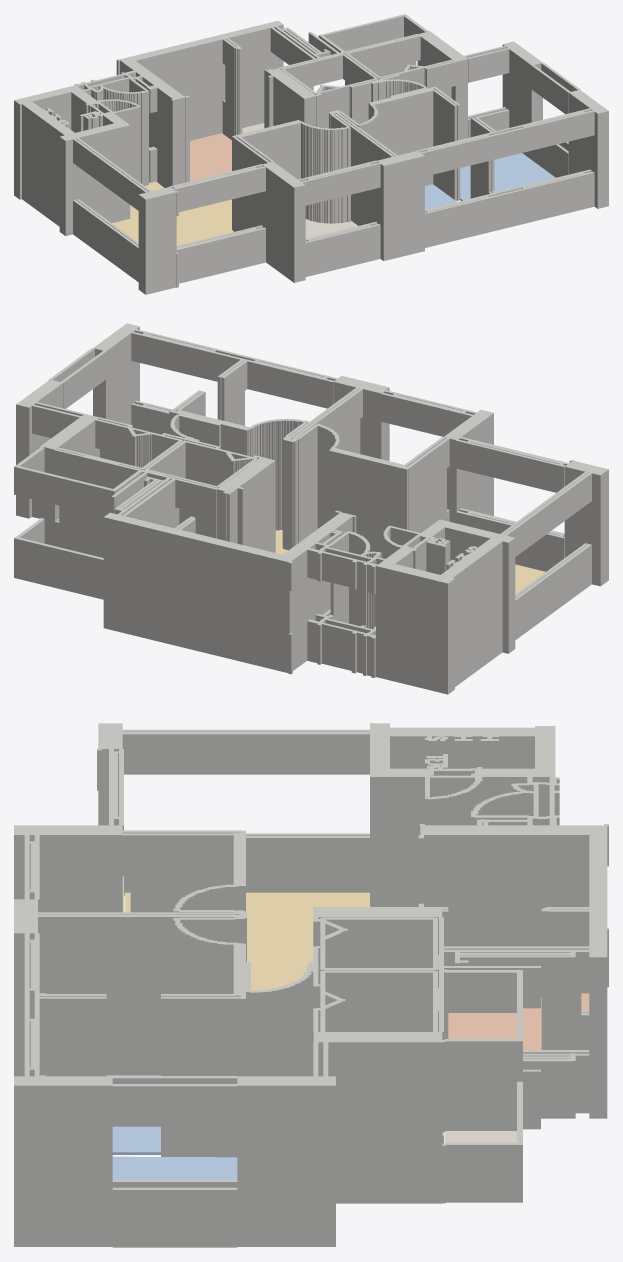
3 views of the same model, one above another, from view 1: azimuth 30°, elevation 25°; view 2: azimuth 150°, elevation 25°; view 3: azimuth 270°, elevation 25° (orthographic). The views are drawn at different scales.
Visible parts, largest first — view 1: walls, room:living:0, room:bedroom:3, room:kitchen:1, room:other:11, room:bedroom:4; view 2: walls, room:living:0; view 3: walls, room:living:0, room:bedroom:3, room:kitchen:1, room:bedroom:4, room:other:8.
Part boxes in pixels (x1=…): walls: x1=14, y1=14, x2=608, y2=294; room:living:0: x1=112, y1=181, x2=233, y2=245; room:bedroom:3: x1=460, y1=153, x2=555, y2=200; room:kitchen:1: x1=190, y1=133, x2=231, y2=181; room:other:11: x1=305, y1=219, x2=357, y2=238; room:bedroom:4: x1=425, y1=184, x2=456, y2=209; walls: x1=14, y1=323, x2=608, y2=694; room:living:0: x1=275, y1=530, x2=545, y2=593; walls: x1=14, y1=723, x2=608, y2=1247; room:living:0: x1=124, y1=892, x2=369, y2=990; room:bedroom:3: x1=112, y1=1156, x2=237, y2=1179; room:kitchen:1: x1=448, y1=993, x2=589, y2=1049; room:bedroom:4: x1=40, y1=1075, x2=160, y2=1154; room:other:8: x1=444, y1=1131, x2=516, y2=1142.
Bounding box in the file's own units: 13.51 × 2.8 × 9.36.
